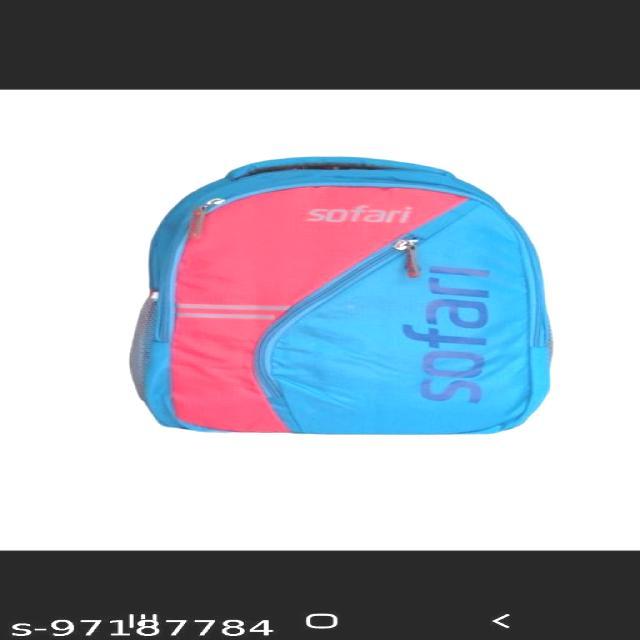backpack: (129, 156, 555, 436)
